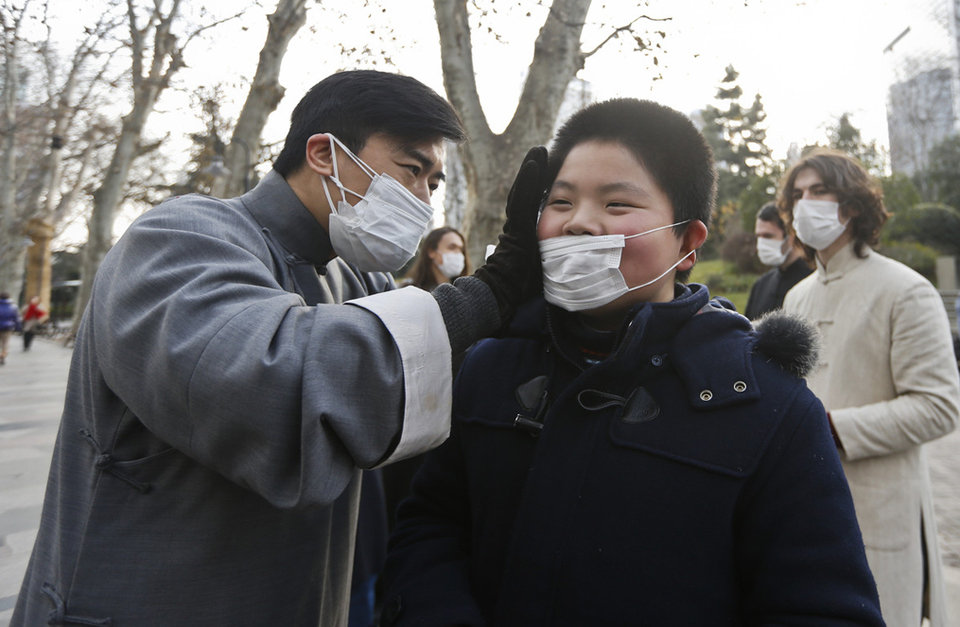face_mask: (536, 142, 666, 312), (339, 128, 450, 271), (791, 175, 841, 242), (755, 218, 794, 265)
